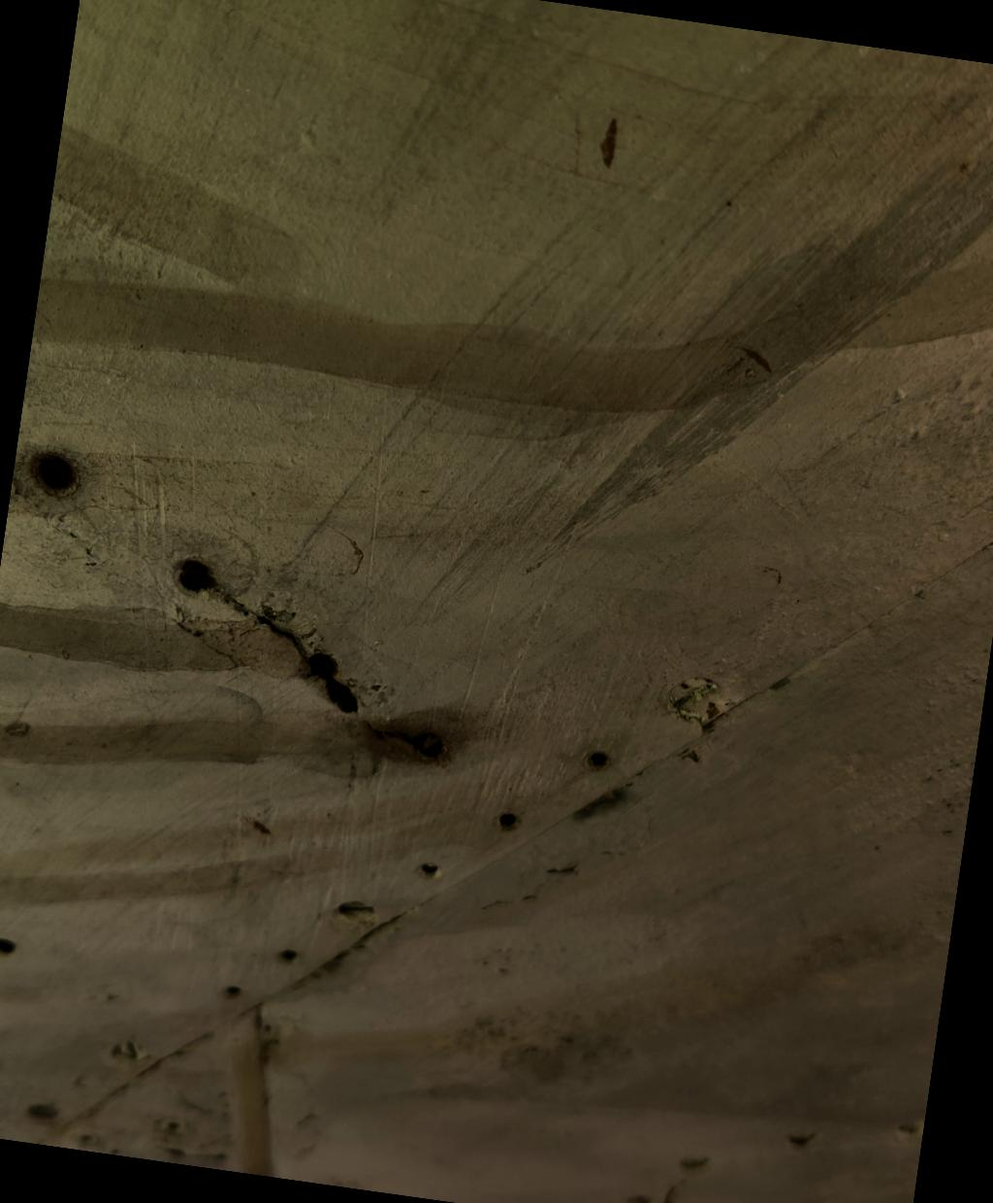crack: (115, 512, 497, 815)
